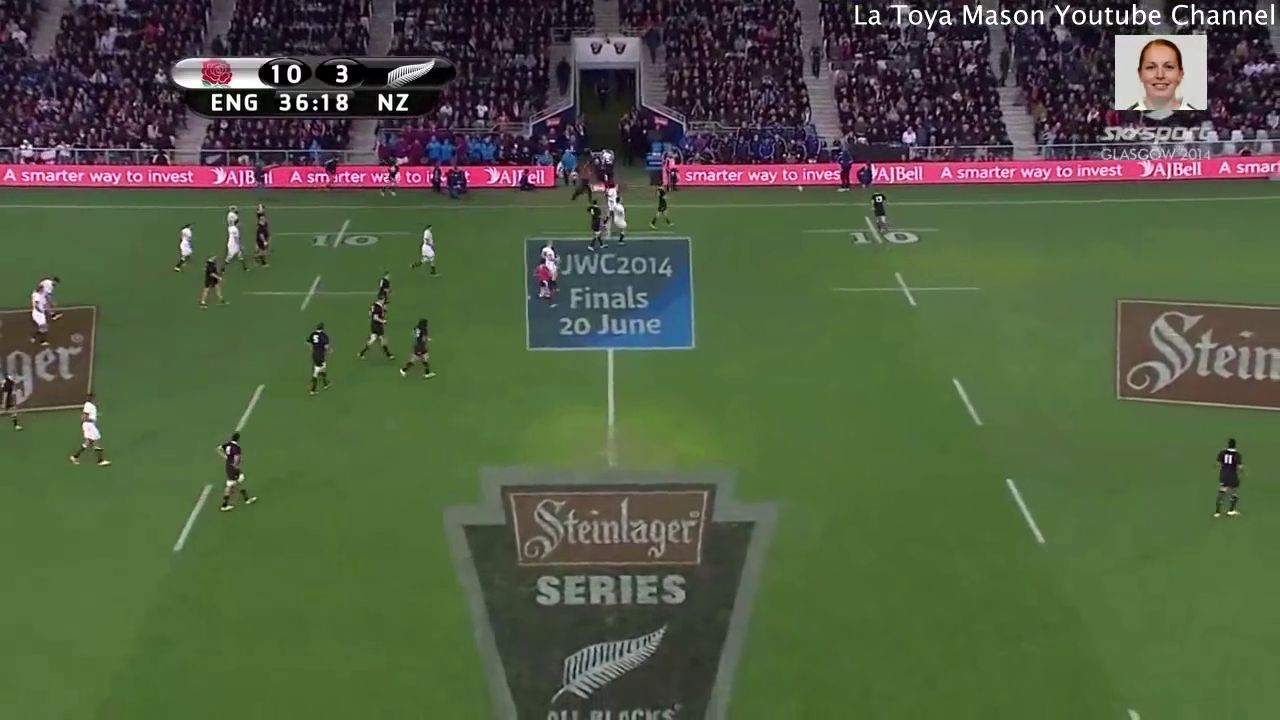10_metre: (823, 268, 988, 308), (273, 217, 413, 256), (243, 272, 382, 310), (802, 216, 945, 249)
player: (66, 390, 116, 472), (214, 431, 261, 516), (1208, 437, 1245, 524), (354, 295, 397, 368), (398, 312, 436, 380), (303, 317, 335, 391), (221, 218, 250, 279), (25, 280, 51, 347), (644, 186, 680, 234), (197, 255, 229, 309), (245, 213, 274, 271), (1, 364, 22, 440), (527, 249, 553, 308), (414, 224, 440, 281), (605, 195, 632, 249), (583, 198, 607, 256), (174, 221, 195, 274), (372, 271, 396, 307), (869, 188, 888, 233), (41, 272, 64, 308), (541, 239, 558, 277), (221, 204, 241, 225)
